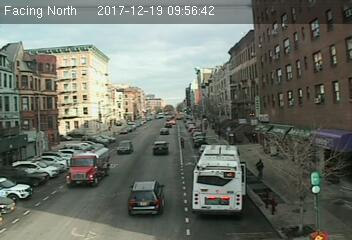bus: (189, 144, 248, 214)
car: (125, 178, 168, 216), (115, 139, 134, 154), (152, 141, 169, 155)
pedestrian: (255, 159, 264, 182)
truck: (67, 148, 111, 185)
